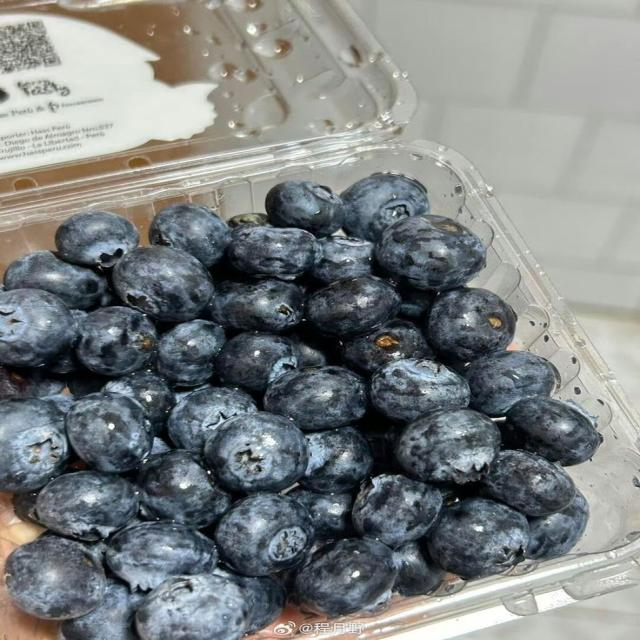blueberry: (5, 536, 106, 619), (205, 412, 308, 493), (376, 215, 486, 290), (428, 498, 529, 579), (215, 494, 314, 576), (294, 539, 397, 617), (395, 408, 500, 484), (106, 522, 217, 591), (114, 246, 213, 322), (135, 574, 249, 639), (138, 450, 231, 528), (36, 471, 138, 540), (67, 393, 153, 472), (426, 288, 516, 362), (353, 475, 442, 548), (0, 399, 69, 493), (503, 398, 599, 465), (264, 366, 366, 429), (370, 359, 470, 422), (480, 450, 575, 516), (464, 351, 557, 417), (341, 173, 429, 242), (5, 251, 107, 308), (307, 276, 399, 339), (168, 387, 257, 452), (0, 290, 75, 367), (76, 307, 157, 377), (206, 280, 304, 333), (149, 203, 230, 267), (59, 579, 144, 639), (342, 321, 434, 375), (215, 333, 298, 392), (300, 427, 373, 493), (227, 227, 319, 279), (214, 568, 286, 634), (55, 211, 139, 267), (157, 320, 226, 386), (266, 181, 345, 236), (527, 490, 589, 559), (103, 371, 175, 430), (287, 487, 354, 540), (311, 237, 373, 284), (394, 542, 446, 596), (47, 309, 87, 375), (360, 415, 402, 474), (288, 323, 339, 368), (0, 365, 65, 399), (397, 283, 436, 322), (67, 368, 112, 398), (74, 539, 106, 566), (13, 491, 39, 524), (174, 382, 213, 403), (43, 393, 75, 414), (227, 213, 268, 229), (149, 437, 173, 457)
